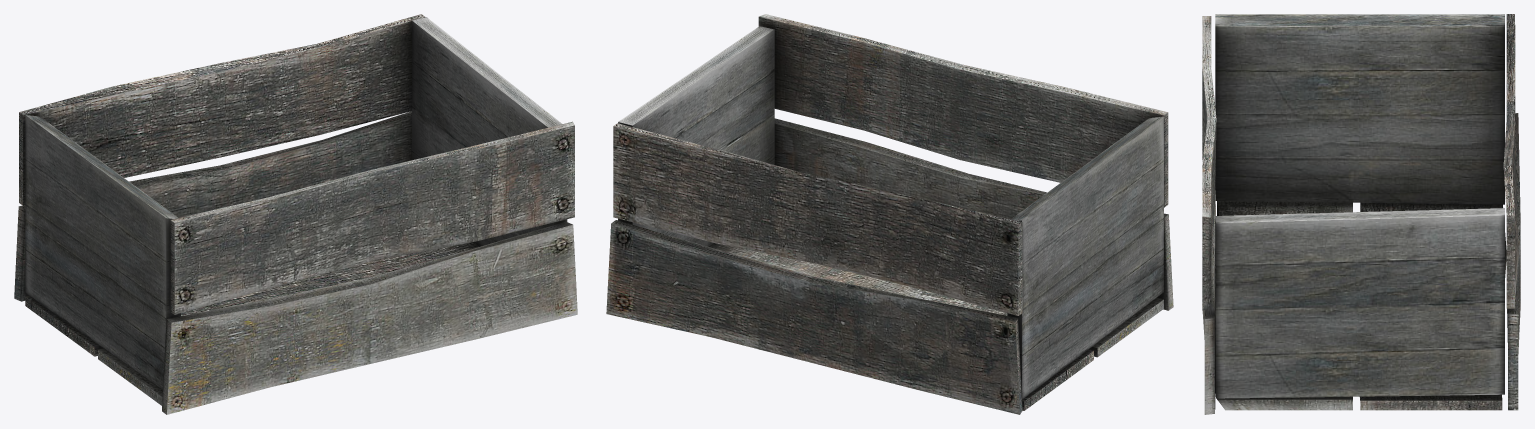
The model's file is Wood Box 01.fbx.
The picture shows the model from 3 angles, left to right: view 1: azimuth 30°, elevation 25°; view 2: azimuth 150°, elevation 25°; view 3: azimuth 270°, elevation 25°; orthographic projection. The views are drawn at different scales.
Parts seen in each view (by area): view 1: Wood Box 01; view 2: Wood Box 01; view 3: Wood Box 01.
Part boxes in pixels (x1=…): Wood Box 01: x1=14, y1=14, x2=577, y2=414; Wood Box 01: x1=606, y1=14, x2=1173, y2=414; Wood Box 01: x1=1202, y1=14, x2=1520, y2=414.
Bounding box in the file's own units: 222 × 102 × 145.
1 material, 1 textured.
